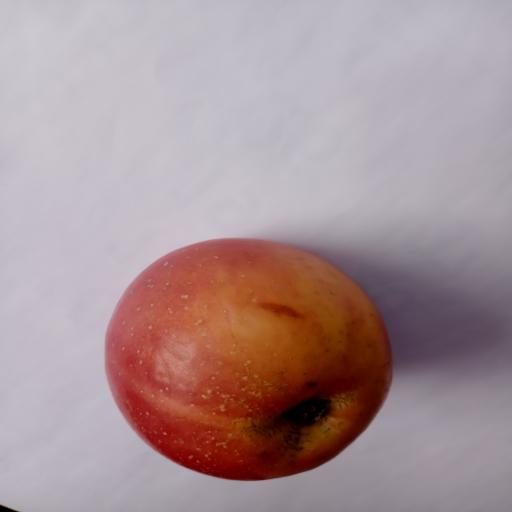apple-ripe: (93, 236, 400, 485)
